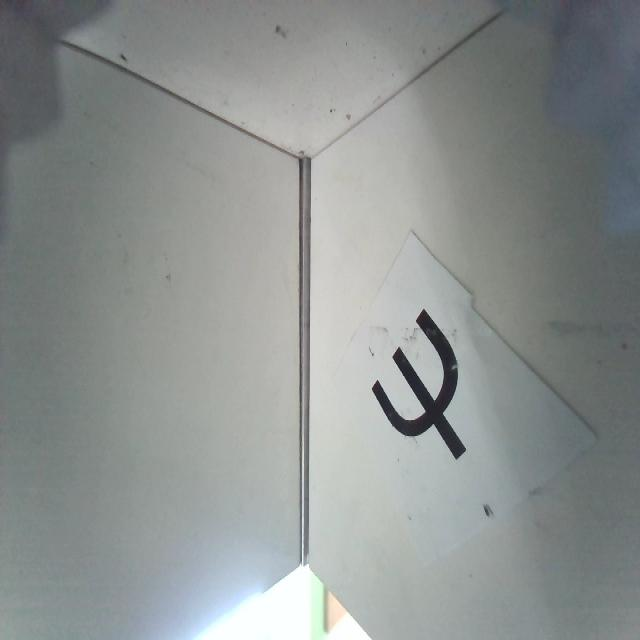nedoF: (370, 306, 467, 460)
